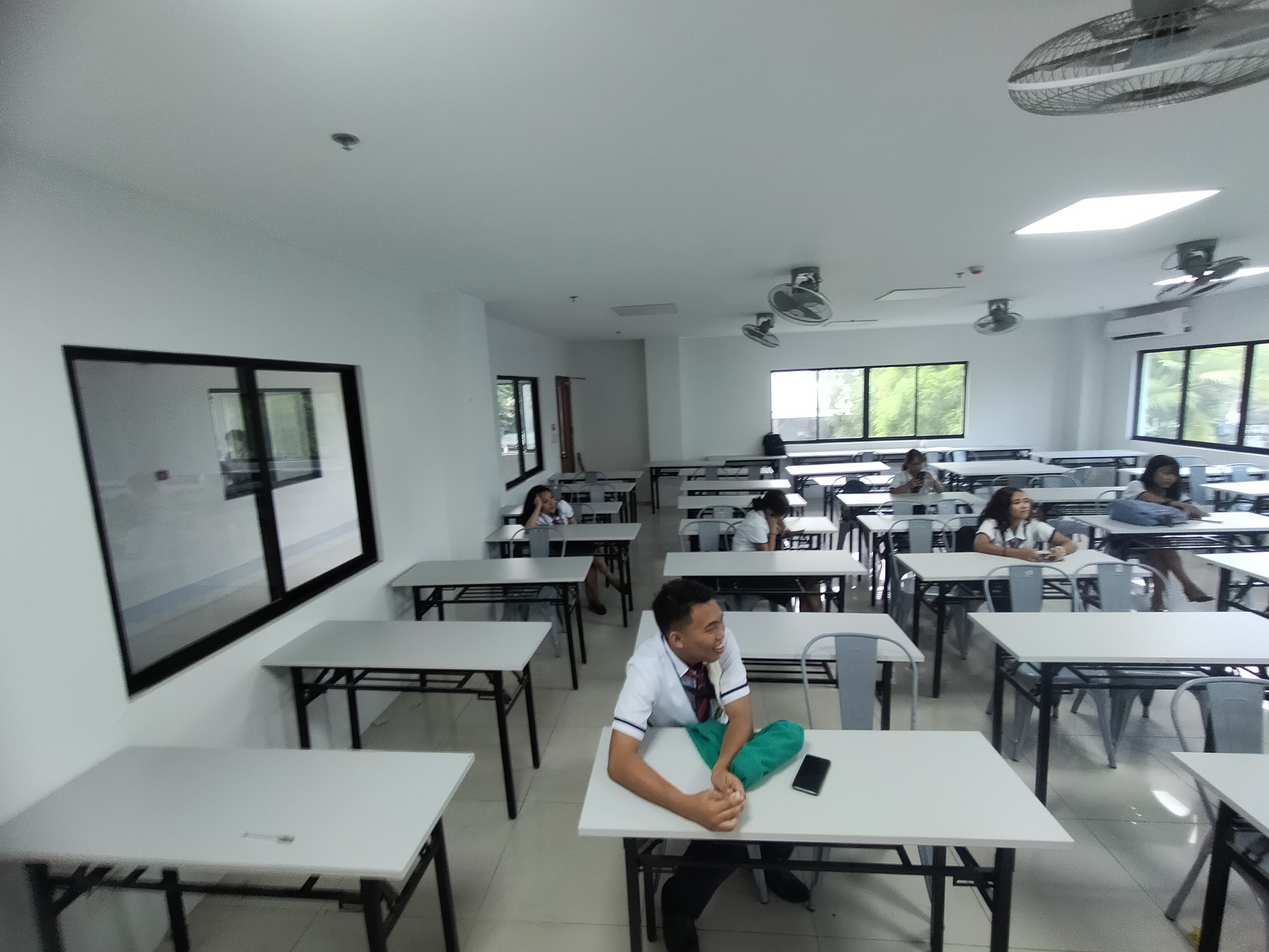with-student: (572, 571, 1073, 896), (896, 485, 1153, 604), (662, 486, 870, 588), (1071, 452, 1269, 544), (486, 484, 643, 547), (836, 448, 990, 511)
